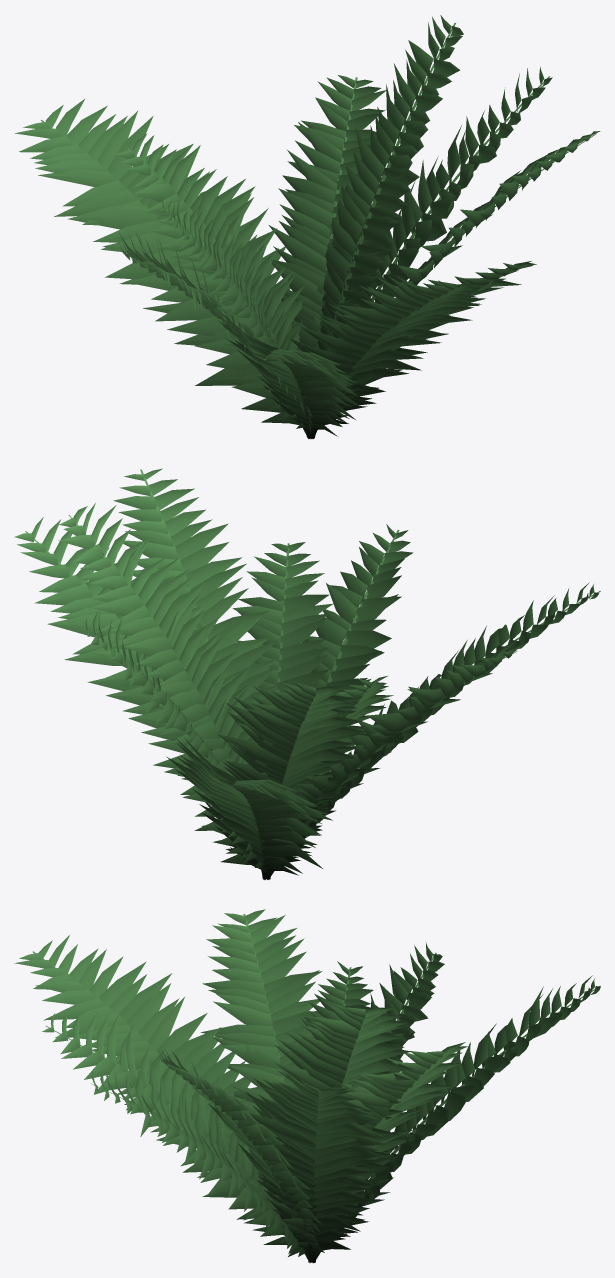
File: SM_Veg_03_FernLarge.fbx
3 views of the same model, one above another, from view 1: azimuth 30°, elevation 25°; view 2: azimuth 150°, elevation 25°; view 3: azimuth 270°, elevation 25° (orthographic). The views are drawn at different scales.
Parts seen in each view (by area): view 1: SM_Veg_03_FernLarge; view 2: SM_Veg_03_FernLarge; view 3: SM_Veg_03_FernLarge.
Boxes of the visible parts, left/top/right/bottom form: SM_Veg_03_FernLarge: left=15, top=15, right=600, bottom=439; SM_Veg_03_FernLarge: left=14, top=468, right=600, bottom=879; SM_Veg_03_FernLarge: left=14, top=909, right=600, bottom=1263.
Size of the model in its own units: 165 by 120 by 191.
